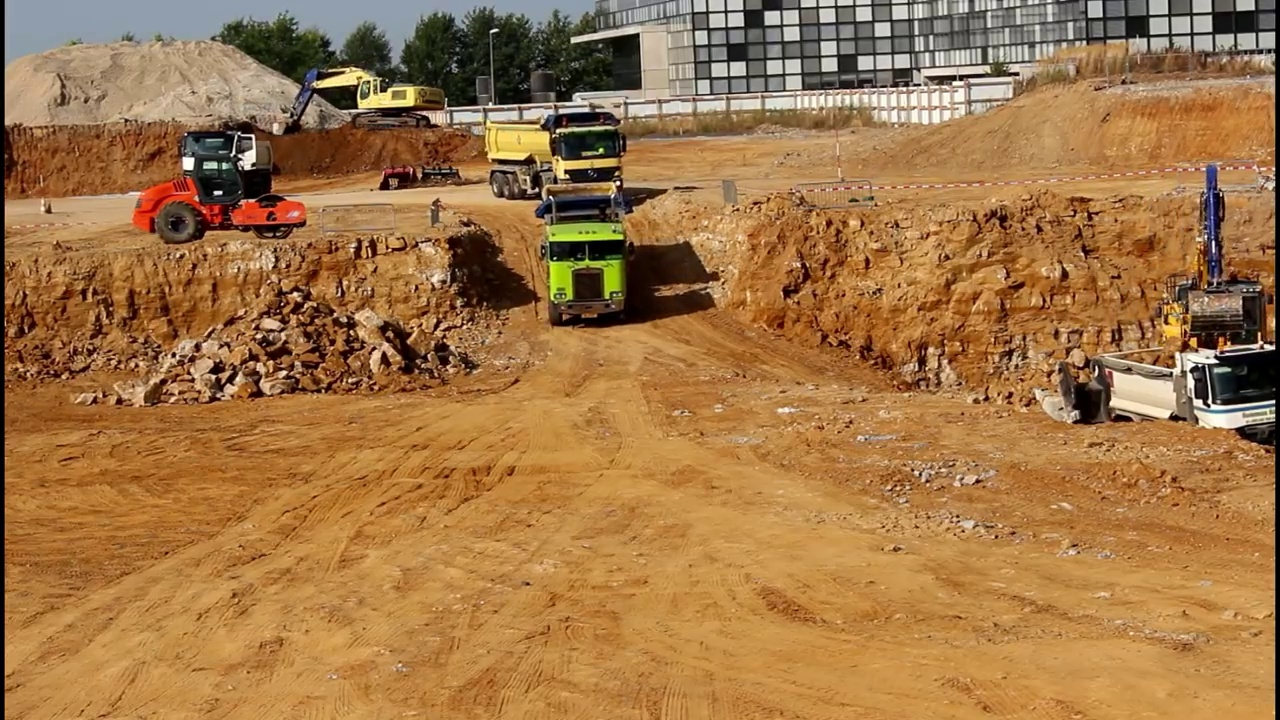compactor: (132, 154, 309, 243)
excavator: (1142, 157, 1280, 388), (274, 58, 447, 141)
truck: (1077, 341, 1280, 455), (525, 179, 642, 327), (480, 107, 635, 205), (176, 123, 283, 212)
